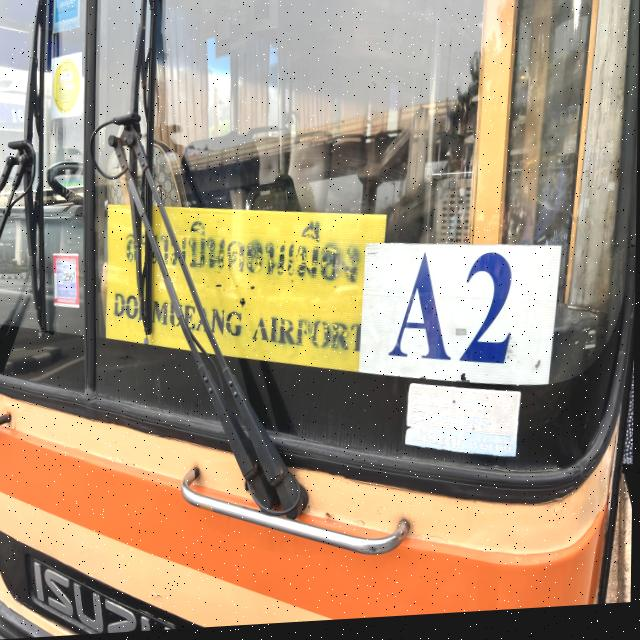Destination Sign: (107, 190, 390, 389)
